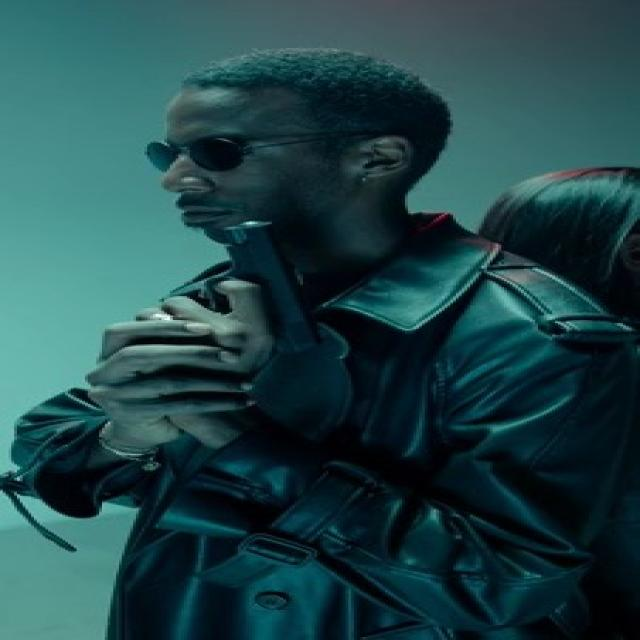Gun_Holder: (101, 220, 379, 406)
Jacket_Wearer: (0, 215, 640, 640)
Person: (0, 45, 640, 640)
